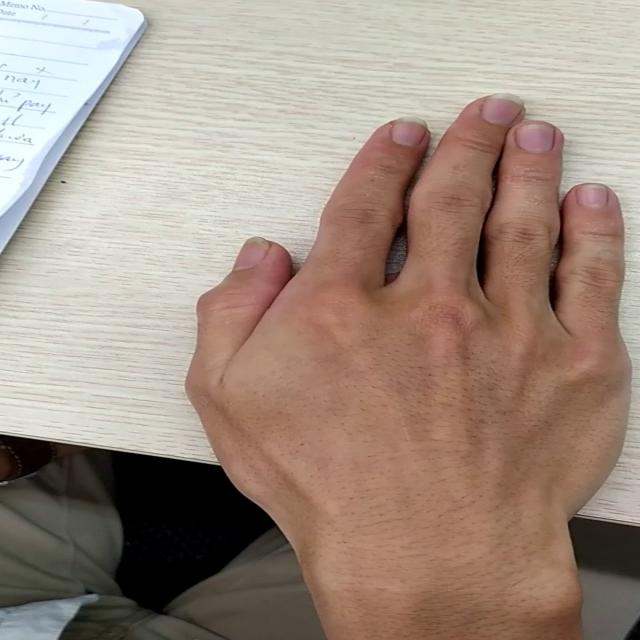hand: (207, 103, 640, 506)
